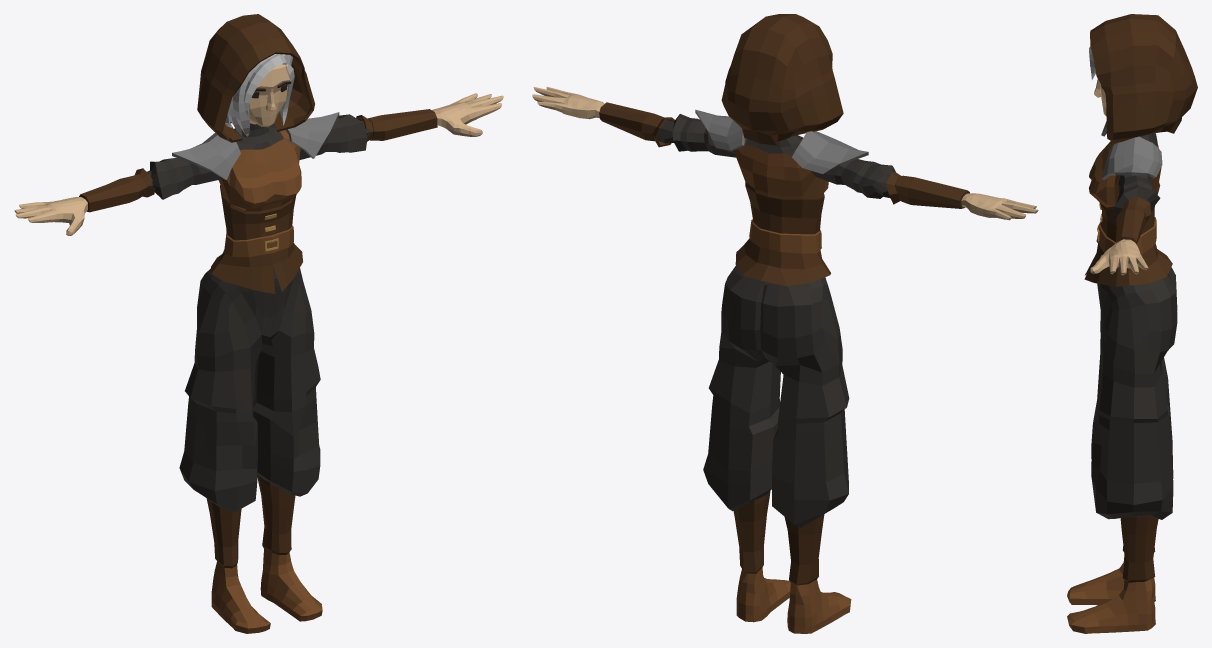
File: Medieval_Woman_Animated.glb
The picture shows the model from 3 angles, left to right: view 1: azimuth 30°, elevation 25°; view 2: azimuth 150°, elevation 25°; view 3: azimuth 270°, elevation 25°; orthographic projection. The views are drawn at different scales.
Visible parts, largest first — view 1: Medieval_Legs, Medieval_Body, Medieval_Head, Medieval_Feet; view 2: Medieval_Legs, Medieval_Body, Medieval_Head, Medieval_Feet; view 3: Medieval_Legs, Medieval_Head, Medieval_Body, Medieval_Feet.
Boxes of the visible parts, bbox=[...] form: Medieval_Legs: bbox=[179, 266, 320, 512]; Medieval_Body: bbox=[14, 93, 503, 293]; Medieval_Head: bbox=[197, 14, 314, 142]; Medieval_Feet: bbox=[206, 474, 322, 633]; Medieval_Legs: bbox=[703, 265, 849, 527]; Medieval_Body: bbox=[532, 87, 1038, 286]; Medieval_Head: bbox=[721, 14, 843, 145]; Medieval_Feet: bbox=[733, 491, 851, 633]; Medieval_Legs: bbox=[1091, 267, 1177, 519]; Medieval_Head: bbox=[1089, 14, 1197, 143]; Medieval_Body: bbox=[1084, 65, 1172, 286]; Medieval_Feet: bbox=[1067, 515, 1158, 633].
Size of the model in its own units: 1.65 by 1.88 by 0.375.
